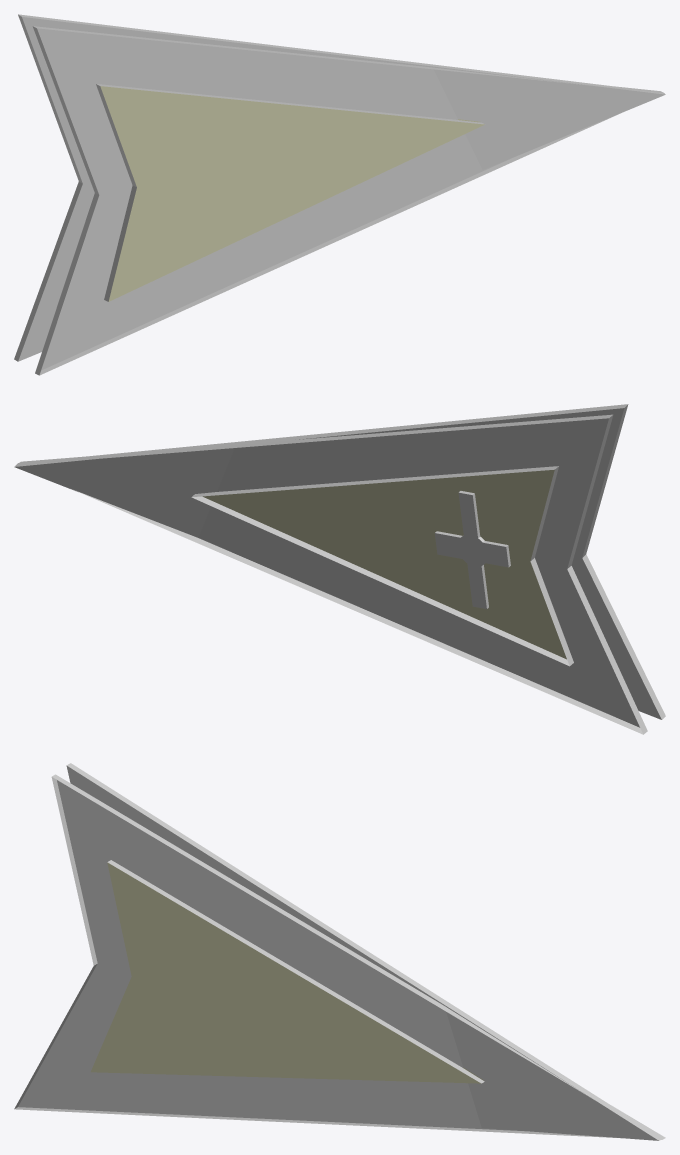
The model's file is arrow.glb.
3 views of the same model, one above another, from view 1: azimuth 30°, elevation 25°; view 2: azimuth 150°, elevation 25°; view 3: azimuth 330°, elevation 25° (orthographic).
Visible parts, largest first — view 1: Group_001, Group_003; view 2: Group_003, Group_001, Group_002; view 3: Group_001, Group_003.
Part boxes in pixels (x1=…): Group_001: x1=32, y1=26, x2=664, y2=375; Group_003: x1=14, y1=14, x2=665, y2=361; Group_003: x1=19, y1=414, x2=647, y2=734; Group_001: x1=14, y1=404, x2=665, y2=719; Group_002: x1=434, y1=491, x2=509, y2=608; Group_001: x1=14, y1=774, x2=665, y2=1139; Group_003: x1=66, y1=763, x2=660, y2=1140.
Size of the model in its own units: 0.6924 by 0.3385 by 0.074.
